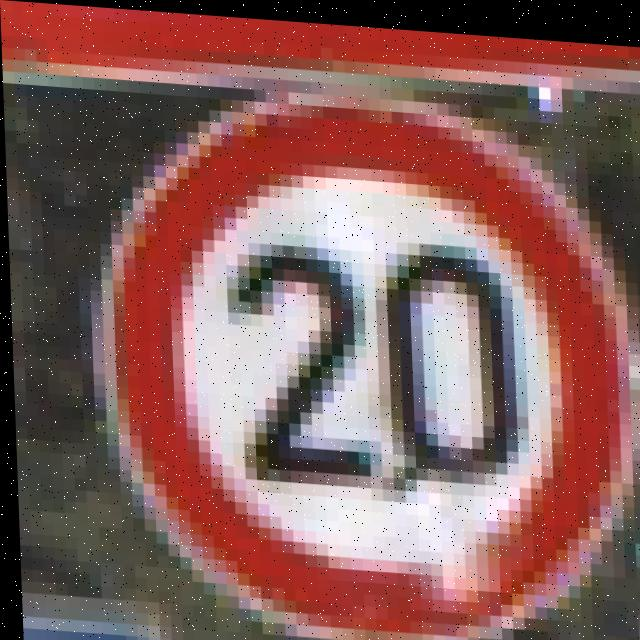speed_limit_20: (71, 76, 640, 640), (80, 82, 640, 640)
